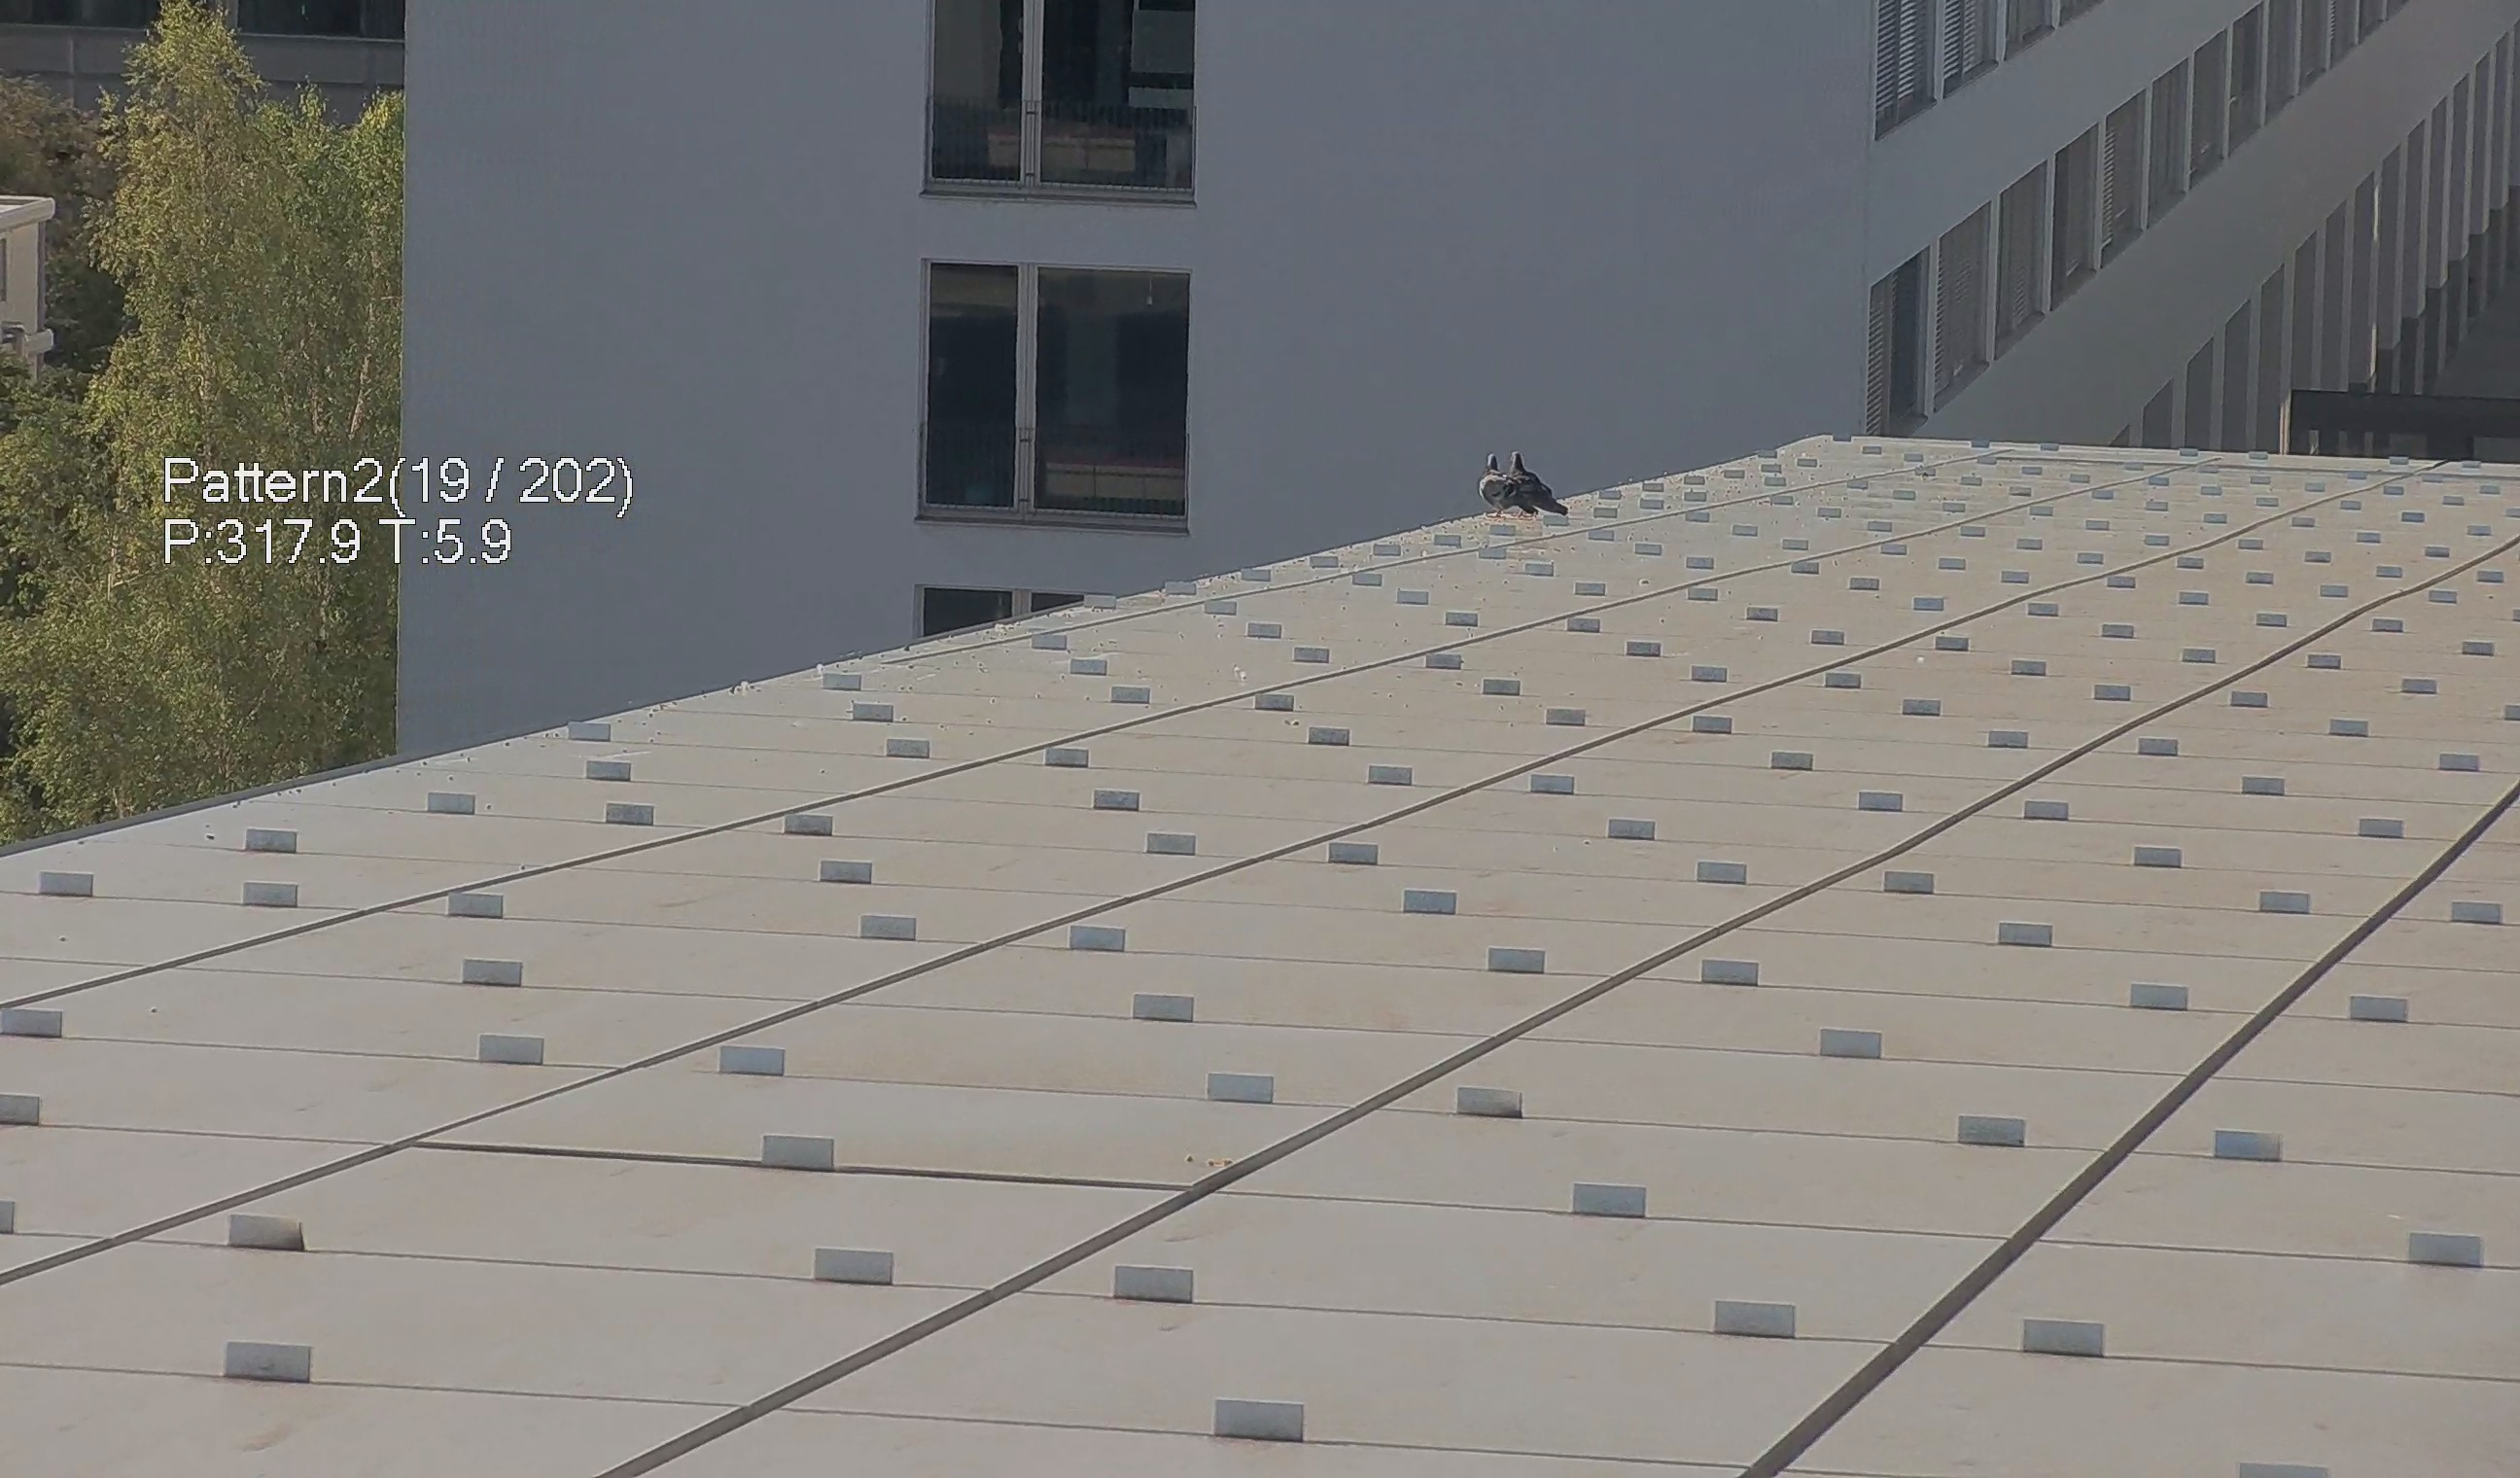Pigeon: (1474, 454, 1569, 526), (1505, 449, 1556, 507)
